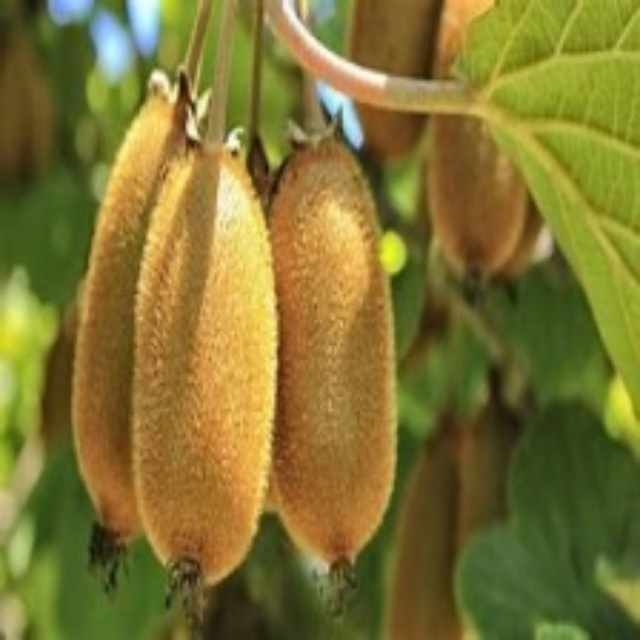kiwi: (77, 89, 275, 617), (260, 131, 403, 605)
